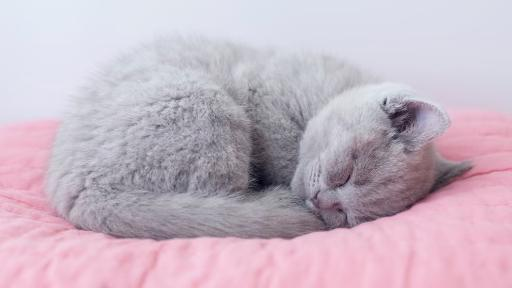cat_sleeping: (46, 38, 470, 239)
